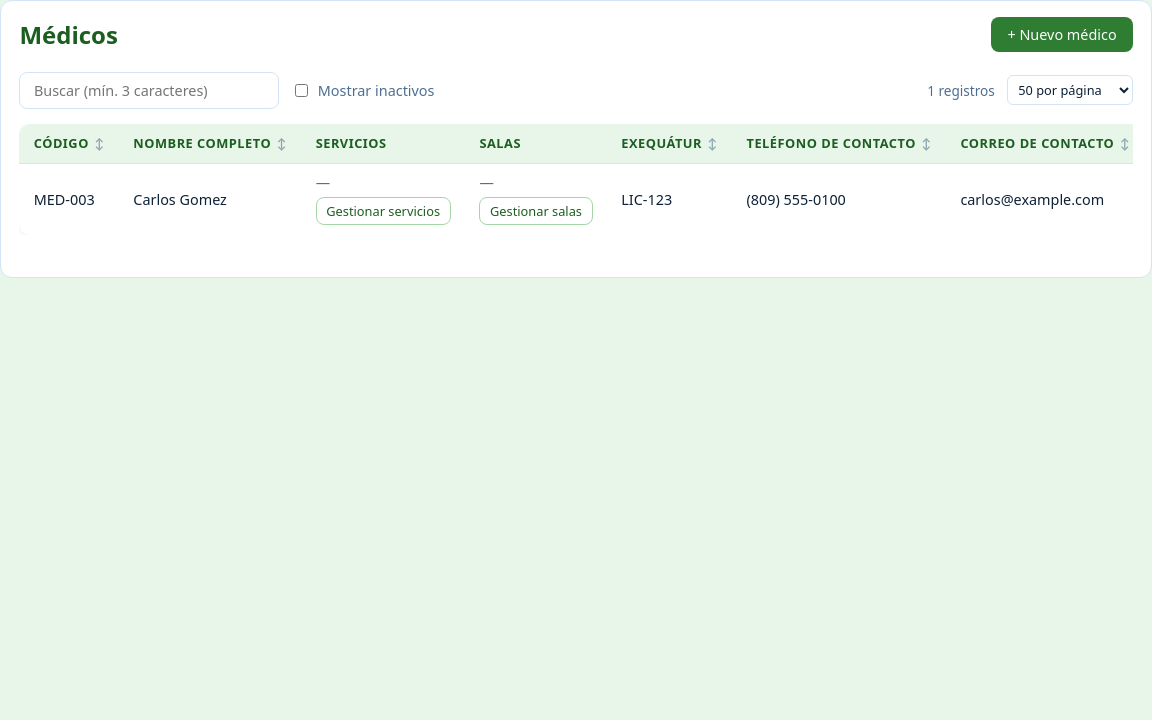
Test: Doctors › opens the manage-services modal for a doctor row
Check: the text "Carlos Gomez" is shown, box [119,163,301,235]
Click the button "Gestionar servicios" at (383, 211), box [316,197,451,225]
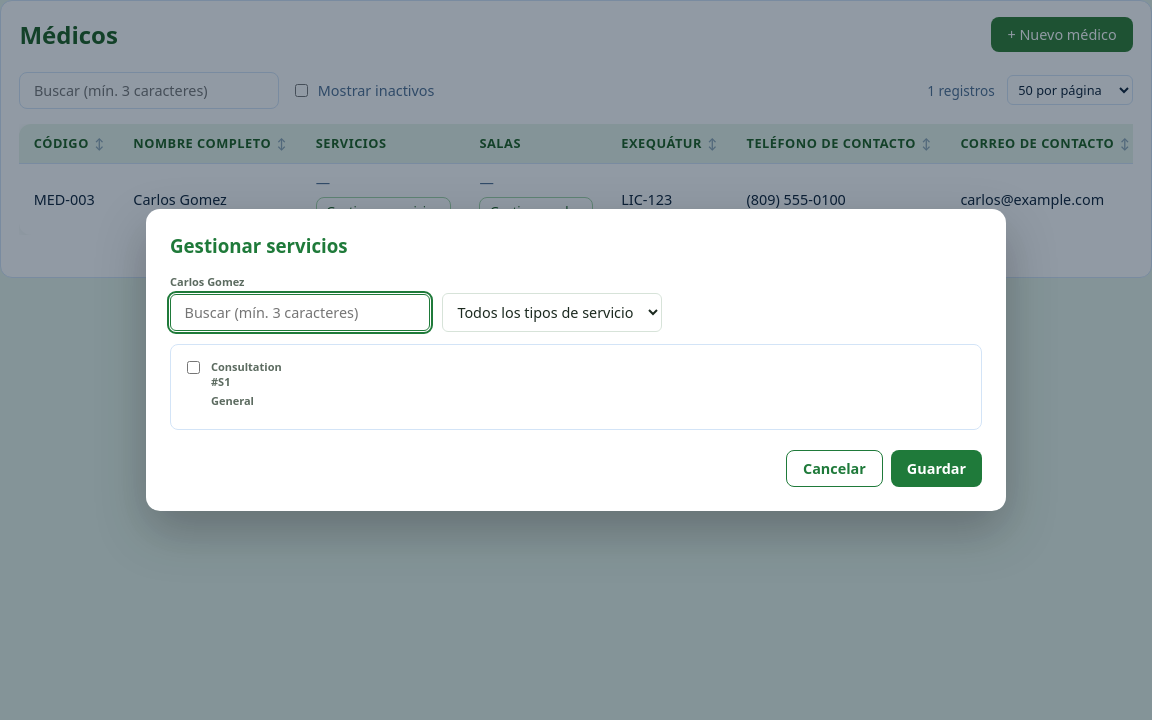
Check: the text "Carlos Gomez" is shown, box [119,163,301,235]
Check: the dialog is shown, box [146,209,1006,511]
Check: the text "Consultation" is shown, box [211,358,282,374]
